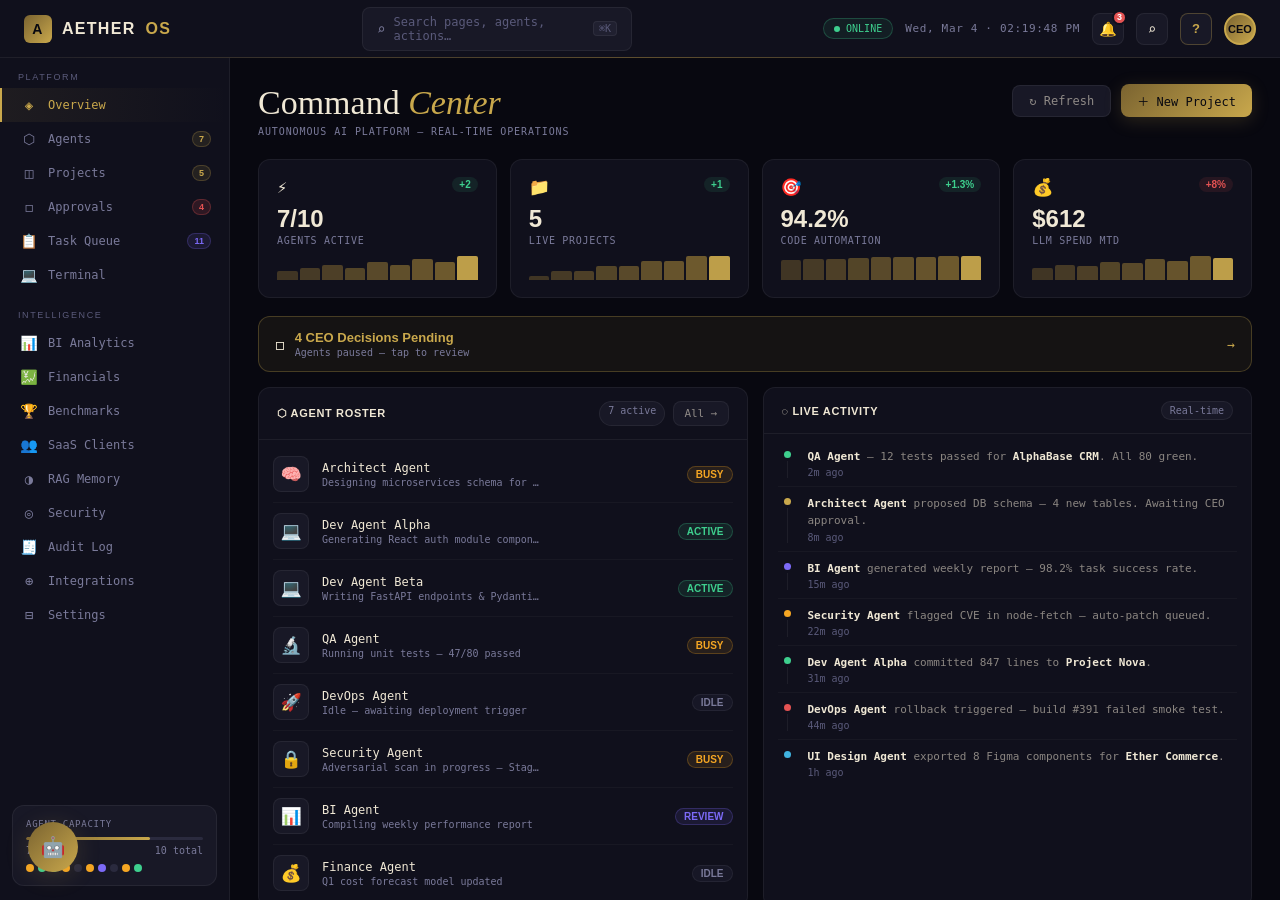
Test: Navigation › can navigate to Projects page
Click the text "Projects" at (77, 173), box [48,166,106,180]
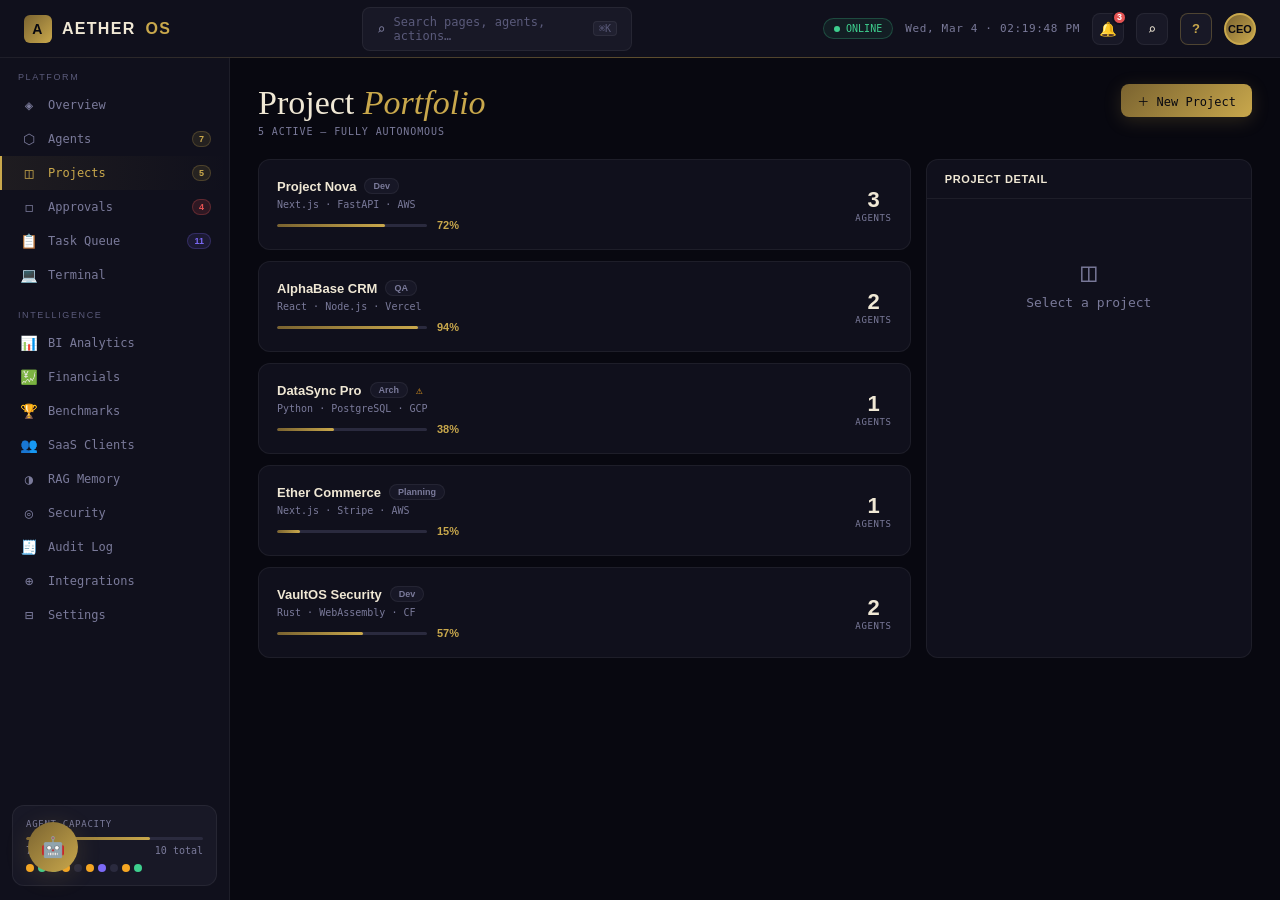
expect the text "Portfolio" is shown: met, box [363,84,486,121]
